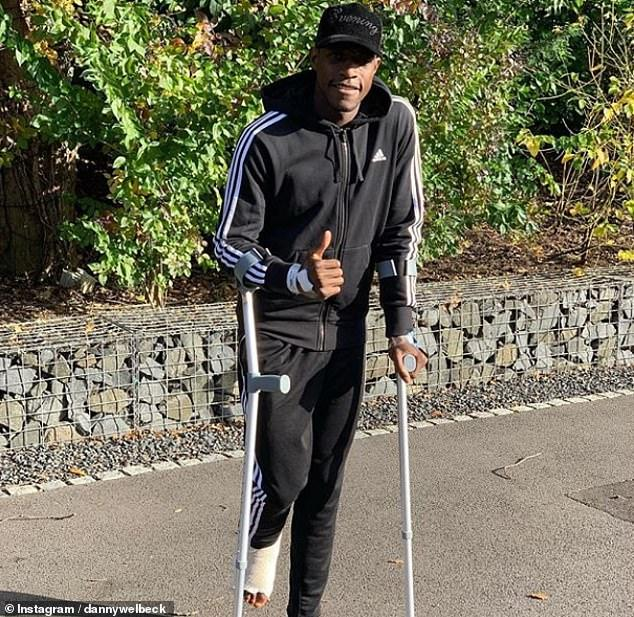crutches: (214, 3, 425, 617)
